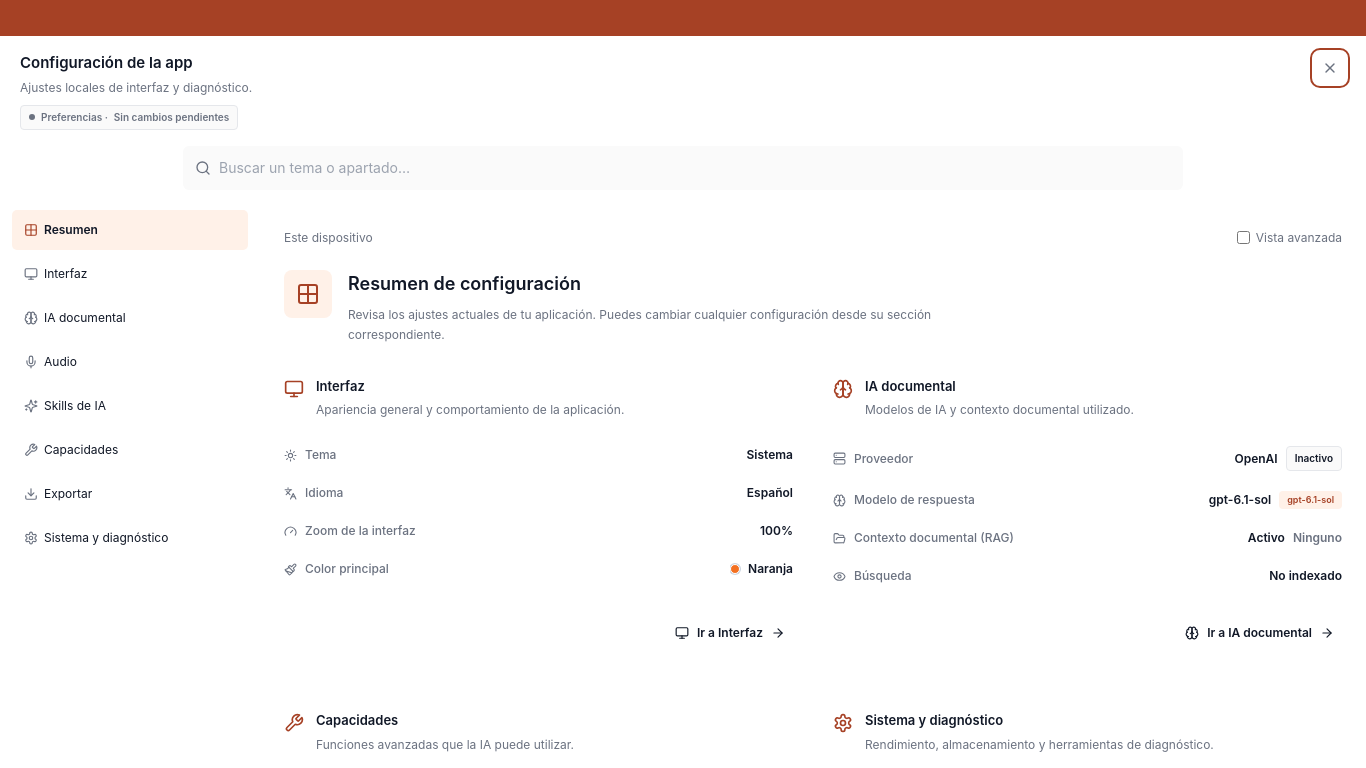
it: AppSettingsDialog › shows the configuration summary as the first settings section
expect the heading "Resumen de configuración" is shown: met, box top-left (348, 272), bottom-right (581, 294)
expect the text "Sin cambios pendientes" is shown: met, box top-left (114, 110), bottom-right (229, 124)
Click the tab "Sistema y diagnóstico" at (130, 538), box top-left (12, 518), bottom-right (248, 558)
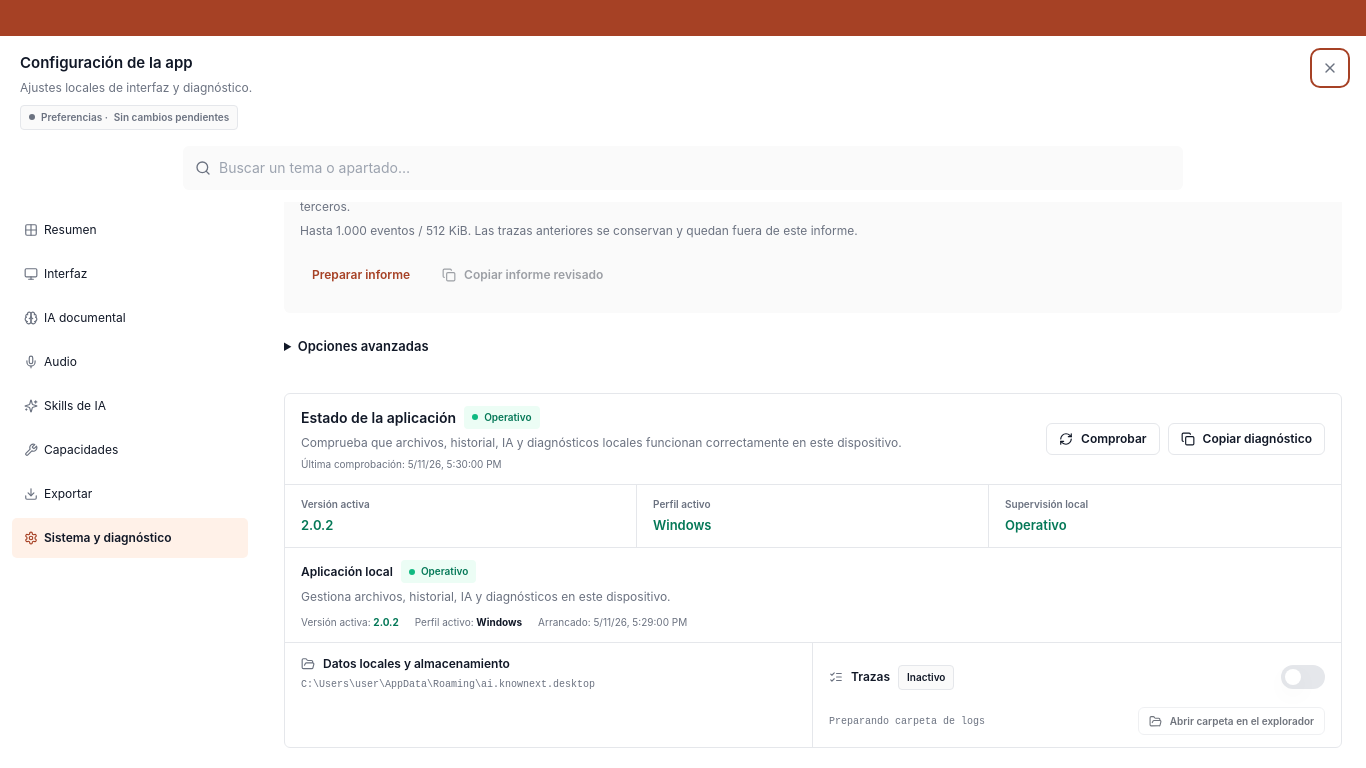
expect the heading "Estado de la aplicación" is shown: met, box top-left (301, 406), bottom-right (456, 428)
expect the text "Aplicación local" is shown: met, box top-left (301, 562), bottom-right (393, 580)
